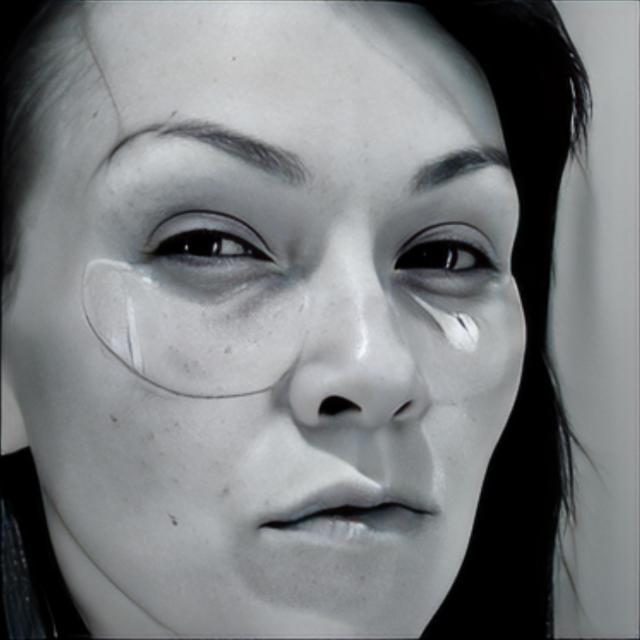content: (7, 2, 530, 640)
